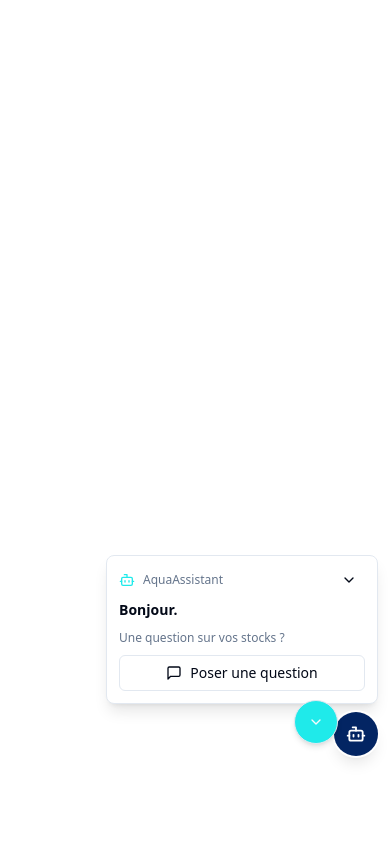
Scenario: s’affiche déplié à l’arrivée avec un message adapté à l’écran, se réduit et se redéroule par la flèche
This screenshot has width=390, height=844.
Later steps or results of the test are not shown.
Expected: the element named "Accueil AquaAssistant" shows "Bonjour", [119, 600, 173, 618]
Expected: the element named "Accueil AquaAssistant" shows "stocks", [119, 628, 285, 646]
Step 1. Click the button named "Réduire la bulle AquaAssistant" → (316, 722), box [294, 700, 338, 744]
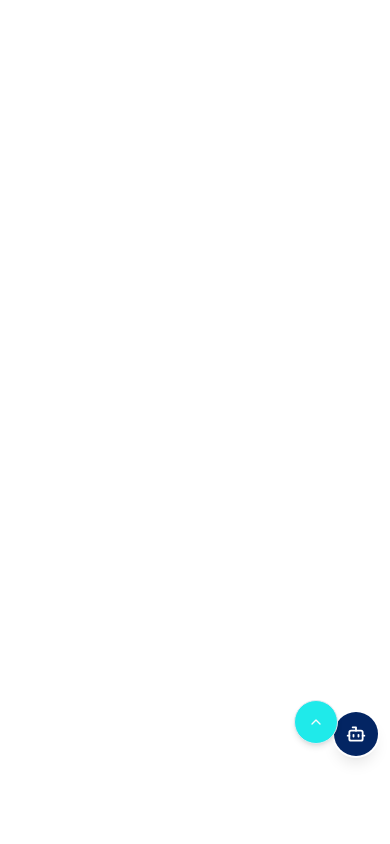
Step 2. Click the button named "Dérouler AquaAssistant" → (316, 722), box [294, 700, 338, 744]
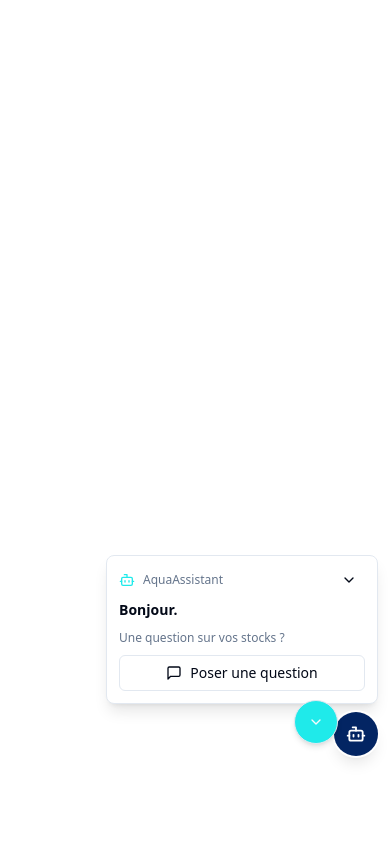
Now the element named "Accueil AquaAssistant" is shown, box [106, 554, 378, 704]
